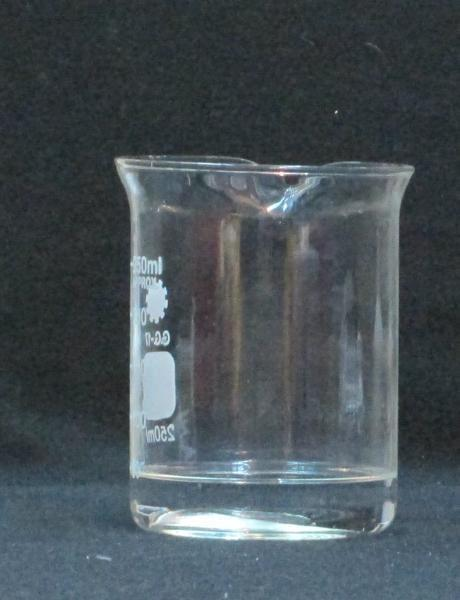Beaker: (108, 154, 417, 544)
